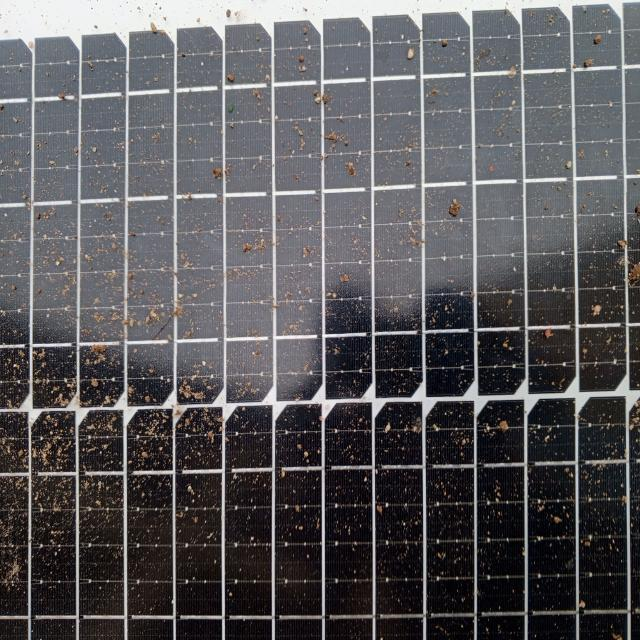Surface Contaminant: (5, 10, 633, 629)
